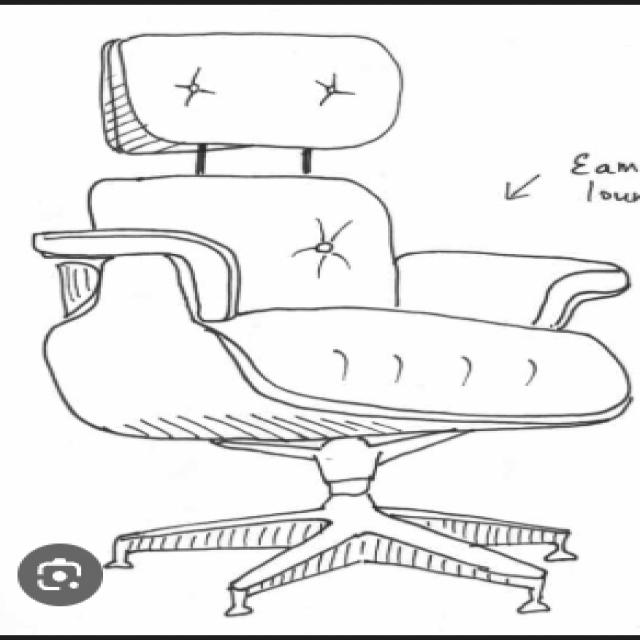Backrest: (82, 171, 401, 315)
Eames_base: (97, 496, 591, 625)
Eames_lounge: (389, 247, 637, 335), (29, 227, 245, 323)
Headrest: (99, 32, 406, 158)
Seat: (34, 251, 634, 446)
